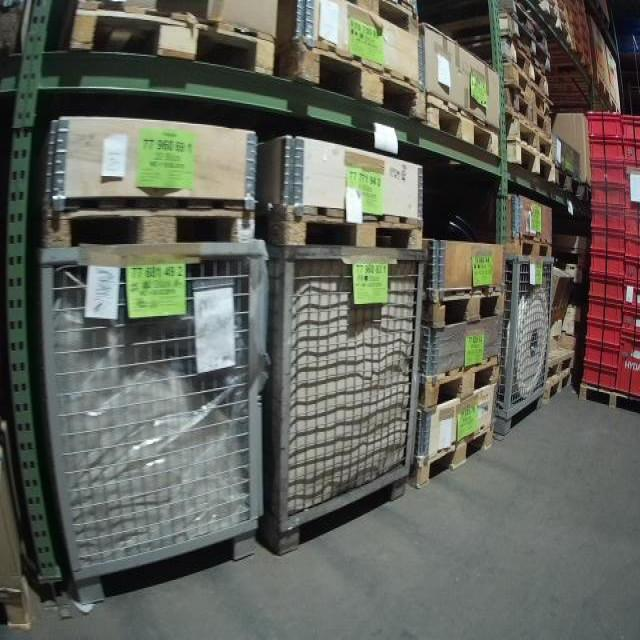pallet: (33, 189, 254, 263), (63, 2, 274, 79), (273, 35, 421, 126), (252, 196, 424, 264), (405, 419, 498, 494), (421, 87, 503, 167), (420, 345, 502, 411), (421, 284, 509, 330), (283, 3, 424, 31), (579, 374, 640, 416), (502, 18, 552, 67), (507, 64, 553, 115), (487, 235, 558, 265), (508, 142, 557, 183), (536, 338, 580, 383), (506, 49, 550, 93), (509, 95, 555, 135), (508, 118, 553, 157), (556, 165, 595, 208), (506, 6, 546, 47), (540, 372, 578, 409)
small_load_carrier: (619, 334, 638, 403), (588, 205, 625, 231), (588, 158, 624, 184), (583, 113, 621, 137), (588, 252, 623, 278), (585, 301, 622, 325), (585, 278, 623, 301), (581, 369, 619, 391), (585, 345, 619, 368), (588, 231, 625, 252), (588, 184, 624, 205), (585, 325, 622, 345), (590, 138, 622, 159), (622, 313, 640, 337), (624, 261, 640, 287), (624, 288, 640, 313), (624, 144, 639, 170), (624, 118, 638, 144), (626, 214, 639, 239), (624, 170, 639, 191), (626, 239, 640, 261), (624, 191, 636, 214)
stillage: (36, 233, 274, 608), (258, 238, 432, 563), (492, 251, 557, 439)
